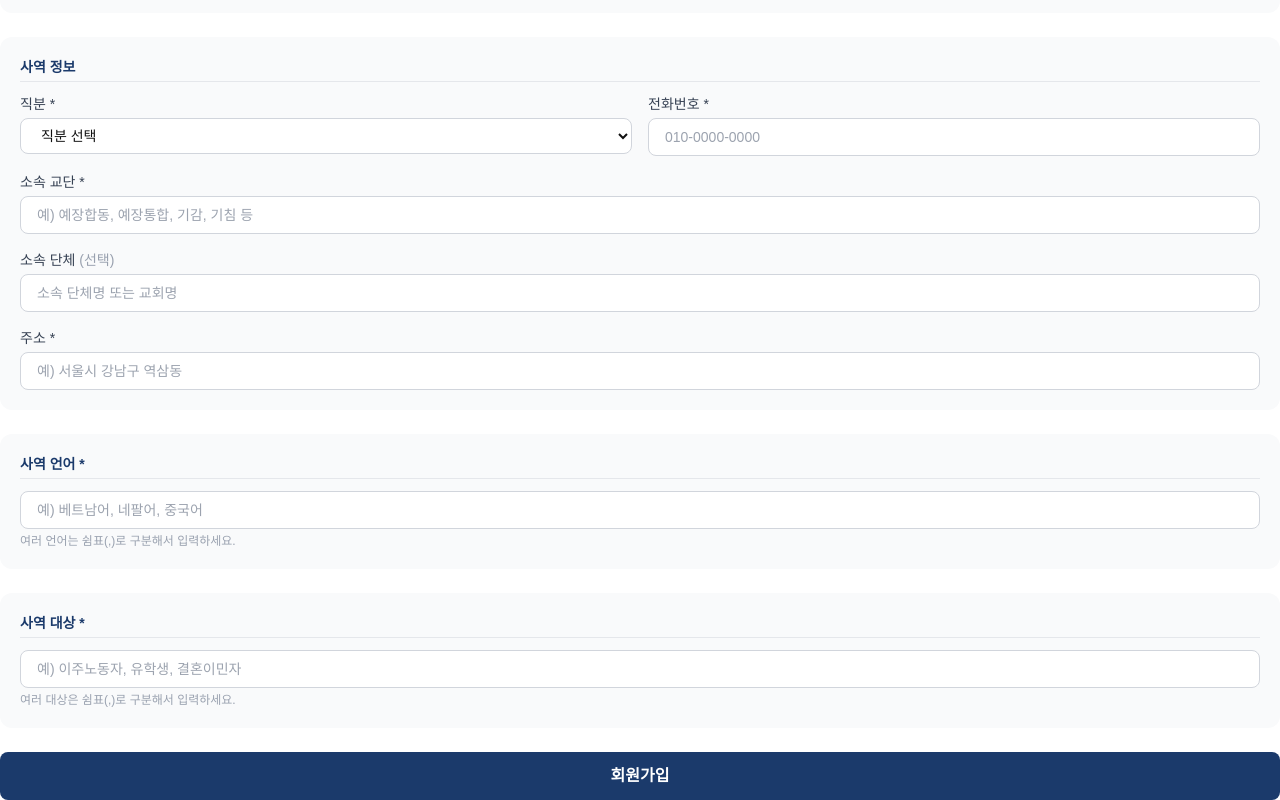
Test: RegisterForm › 빈 폼 제출 시 에러 메시지를 표시한다
The width and height of the screenshot is (1280, 800).
(page scrolled)
Click the button "회원가입": {"x": 640, "y": 776} [0,752,1279,799]
(page scrolled)
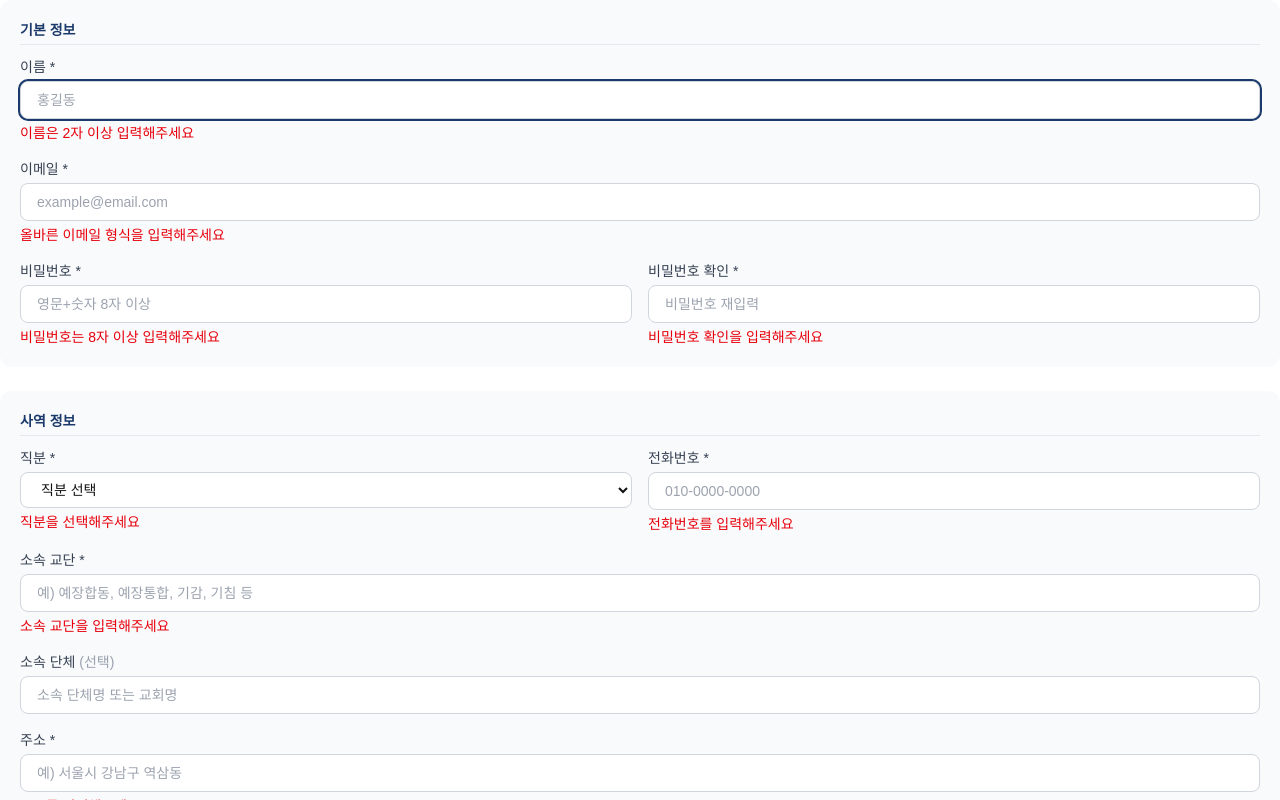
expect the text "이름은 2자 이상 입력해주세요" is shown: met, box [20,125,194,141]
expect the text "올바른 이메일 형식을 입력해주세요" is shown: met, box [20,227,225,243]
expect the text "비밀번호는 8자 이상 입력해주세요" is shown: met, box [20,329,220,345]
